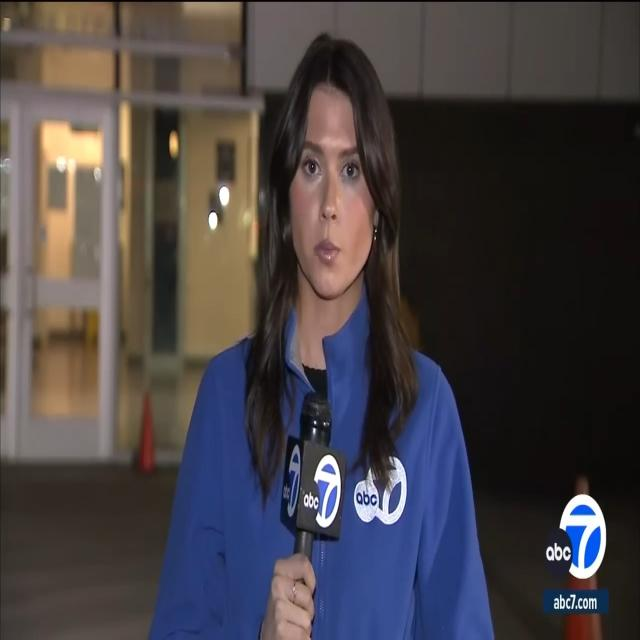microphone: (287, 389, 343, 638)
